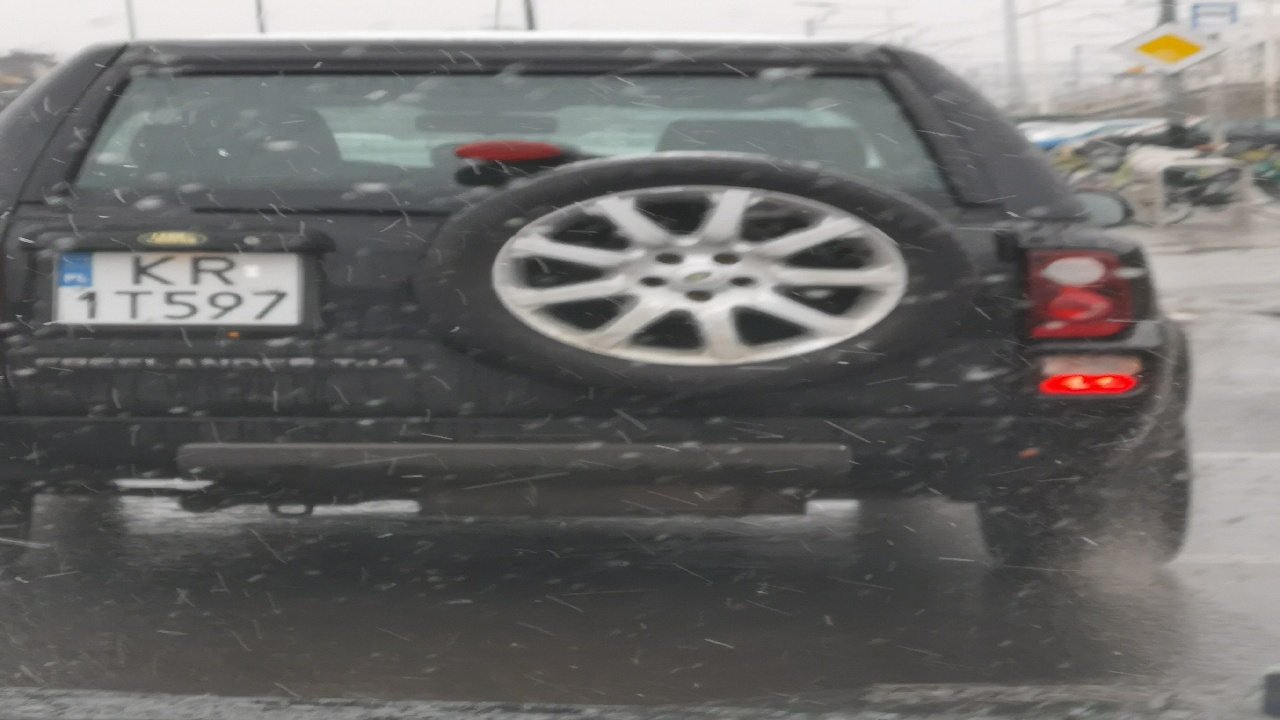D1: (1114, 19, 1235, 78)
